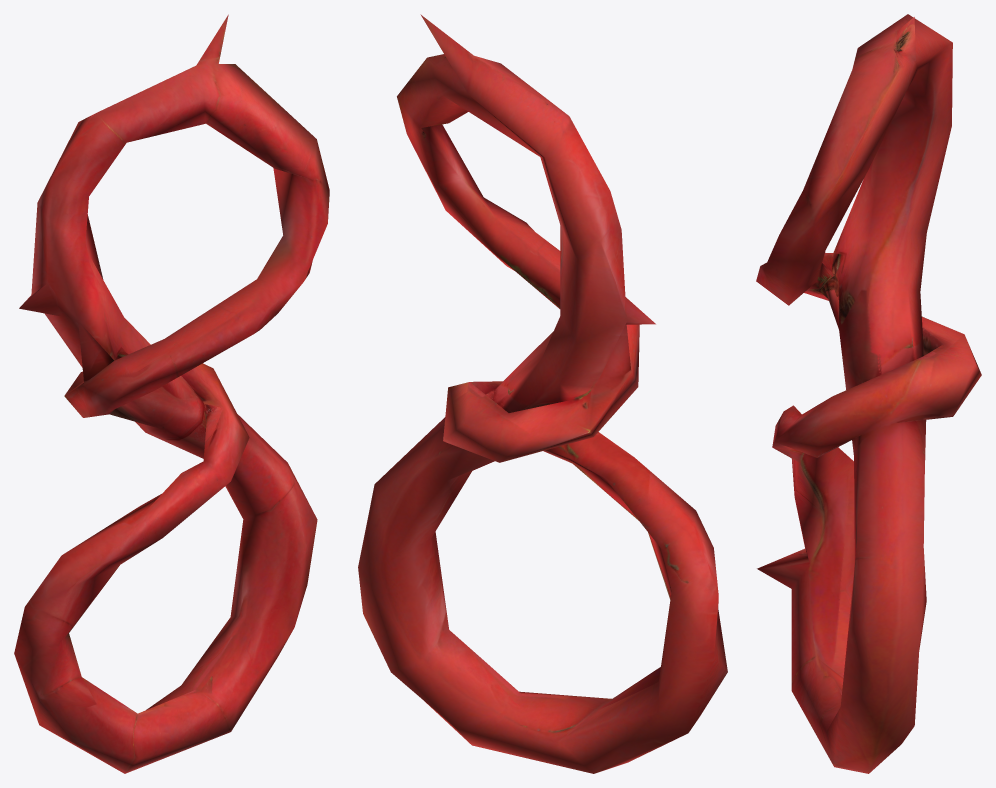
The model's file is Infinite_Thorns_0727021708_texture.fbx.
3 renders of one model, left to right at view 1: azimuth 30°, elevation 25°; view 2: azimuth 150°, elevation 25°; view 3: azimuth 270°, elevation 25°, orthographic. The views are drawn at different scales.
Visible parts, largest first — view 1: Mesh1; view 2: Mesh1; view 3: Mesh1.
Part boxes in pixels (left/top/right/bottom): Mesh1: left=14, top=14, right=329, bottom=773; Mesh1: left=358, top=14, right=727, bottom=773; Mesh1: left=756, top=14, right=981, bottom=773.
Size of the model in its own units: 92.22 by 196 by 51.51.
1 material, 1 textured.
